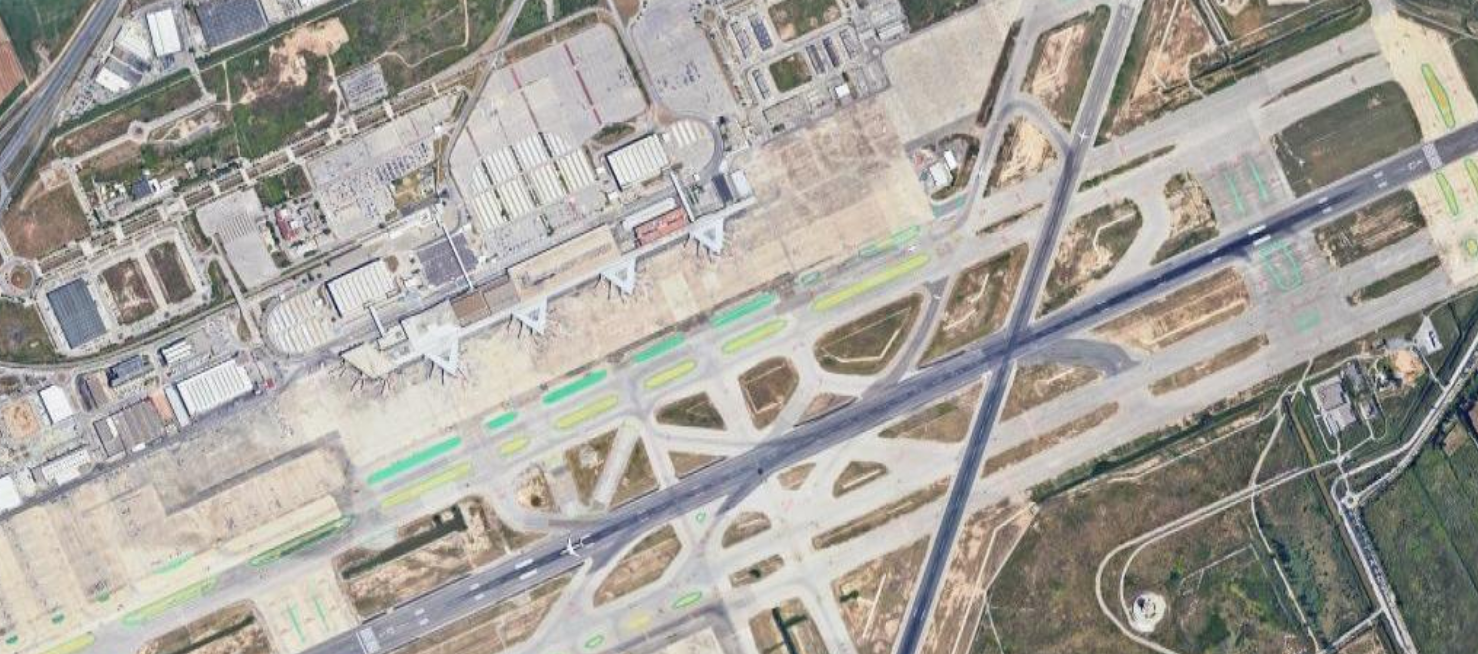plane: (560, 536, 585, 557)
